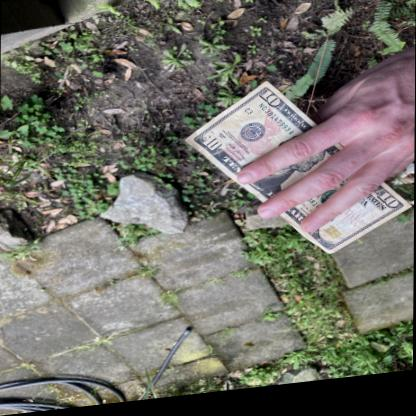ten-front: (188, 81, 407, 258)
